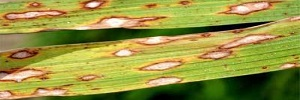RiceBlast: (113, 34, 298, 86), (2, 48, 76, 100), (78, 1, 173, 30), (4, 2, 72, 27), (214, 2, 284, 17), (80, 69, 103, 85)
